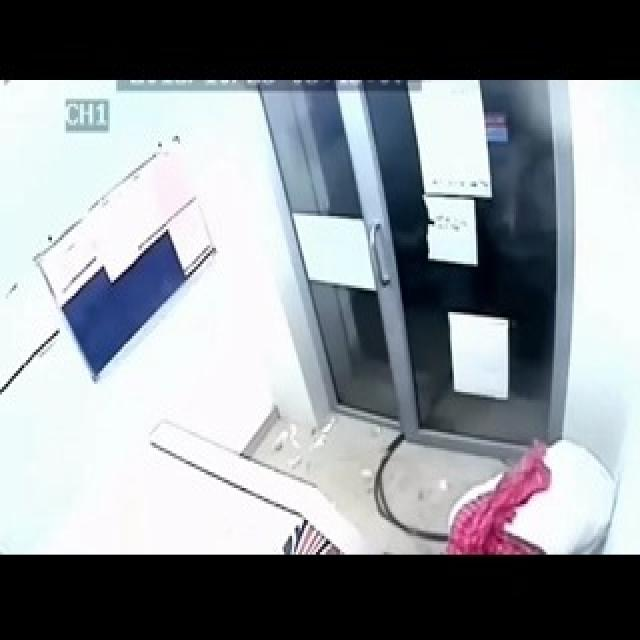thief: (438, 465, 575, 570)
